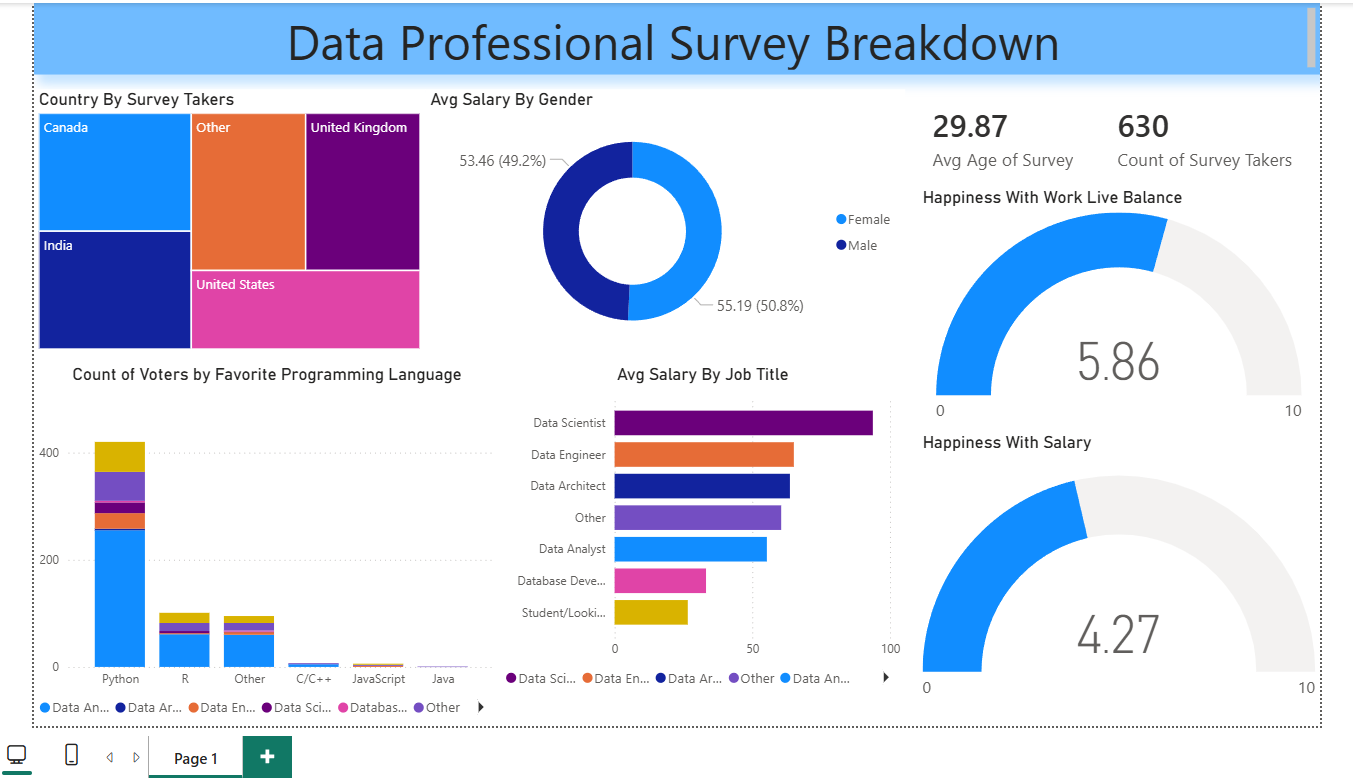

This screenshot's page, from the dashboard's own definition file:
{"tool":"powerbi","page":{"name":"Page 1","canvas":[1280,720],"ordinal":0},"visuals":[{"type":"textbox","box":[0,0,1280.3,71.4],"z":0},{"type":"cardVisual","fields":{"Data":["Count(Data Professional Survey.Unique ID)"]},"box":[1051.1,86.4,229.2,96.1],"z":1000},{"type":"cardVisual","fields":{"Data":["Avg(Data Professional Survey.Q10 - Current Age)"]},"box":[867.2,86.4,196.2,96.1],"z":2000},{"type":"barChart","title":"Avg Salary By Job Title","fields":{"Category":["Data Professional Survey.Q1 - Which Title Best Fits your Current Role?.1"],"Y":["Avg(Data Professional Survey.Avg Salary)"],"Series":["Data Professional Survey.Q1 - Which Title Best Fits your Current Role?.1"]},"box":[464,359.5,403,330.9],"z":3000},{"type":"columnChart","title":"Count of Voters by Favorite Programming Language","fields":{"Category":["Data Professional Survey.Q5 - Favorite Programming Language.1"],"Y":["CountNonNull(Data Professional Survey.Unique ID)"],"Series":["Data Professional Survey.Q1 - Which Title Best Fits your Current Role?.1"]},"box":[0,359.5,464,360.7],"z":4000},{"type":"treemap","title":"Country By Survey Takers","fields":{"Group":["Data Professional Survey.Q11 - Which Country do you live in?.1"],"Values":["Count(Data Professional Survey.Q11 - Which Country do you live in?.1)"]},"box":[0,85.8,389.4,263.7],"z":5000},{"type":"gauge","title":"Happiness With Work Live Balance","fields":{"Y":["Avg(Data Professional Survey.Q6 - How Happy are you in your Current Position with the following? (Coworkers))"],"MinValue":["Min(Data Professional Survey.Q6 - How Happy are you in your Current Position with the following? (Coworkers))1"],"MaxValue":["Max(Data Professional Survey.Q6 - How Happy are you in your Current Position with the following? (Coworkers))2"]},"box":[879.6,182.5,400.7,244.3],"z":6000},{"type":"gauge","title":"Happiness With Salary","fields":{"Y":["Avg(Data Professional Survey.Q6 - How Happy are you in your Current Position with the following? (Salary))"],"MinValue":["Min(Data Professional Survey.Q6 - How Happy are you in your Current Position with the following? (Salary))"],"MaxValue":["Max(Data Professional Survey.Q6 - How Happy are you in your Current Position with the following? (Salary))"]},"box":[879.6,426.8,400.7,293.7],"z":7000},{"type":"donutChart","title":"Avg Salary By Gender","fields":{"Category":["Data Professional Survey.Q9 - Male/Female?"],"Y":["Avg(Data Professional Survey.Avg Salary)"]},"box":[389.4,85.8,477.7,263.7],"z":8000}]}

Visuals, with their boxes on the page's 1280x720 design canvas (x1, y1, x2, y2). These are canvas units, not pixel positions in the 1353x778 screenshot, which may show the page scaled, cropped or inside an application window:
textbox: crop(0, 0, 1280, 71)
cardVisual - Count(Data Professional Survey.Unique ID): crop(1051, 86, 1280, 182)
cardVisual - Avg(Data Professional Survey.Q10 - Current Age): crop(867, 86, 1063, 182)
"Avg Salary By Job Title" barChart: crop(464, 360, 867, 690)
"Count of Voters by Favorite Programming Language" columnChart: crop(0, 360, 464, 720)
"Country By Survey Takers" treemap: crop(0, 86, 389, 350)
"Happiness With Work Live Balance" gauge: crop(880, 182, 1280, 427)
"Happiness With Salary" gauge: crop(880, 427, 1280, 720)
"Avg Salary By Gender" donutChart: crop(389, 86, 867, 350)
